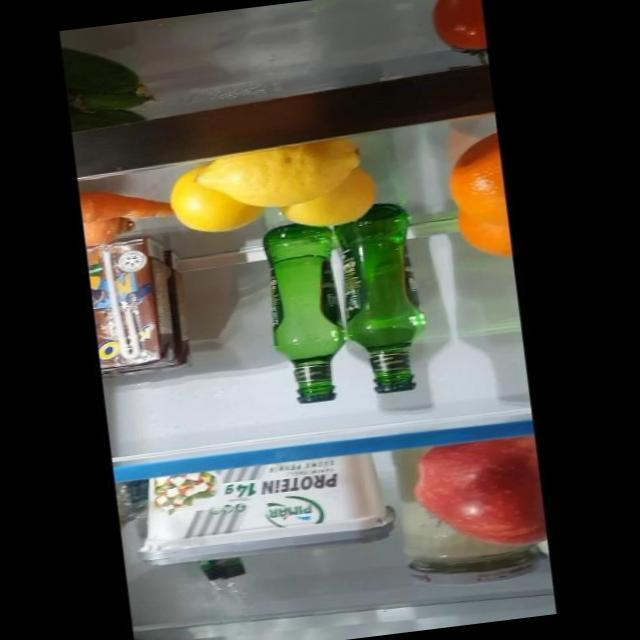Manzana: (401, 433, 546, 558)
Queso: (126, 448, 392, 571)
